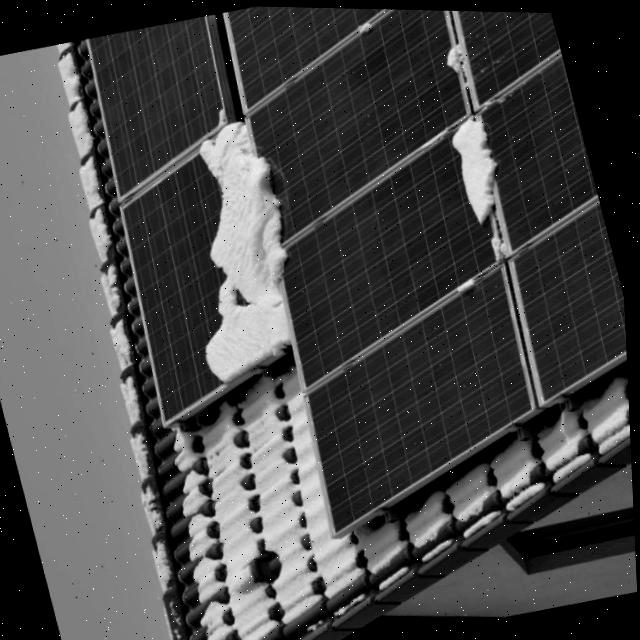Anomaly Solar Panel: (228, 5, 540, 537), (91, 15, 291, 428)
Normal Solar Panel: (459, 8, 629, 403)
Snow: (200, 123, 286, 381), (447, 107, 513, 225)
